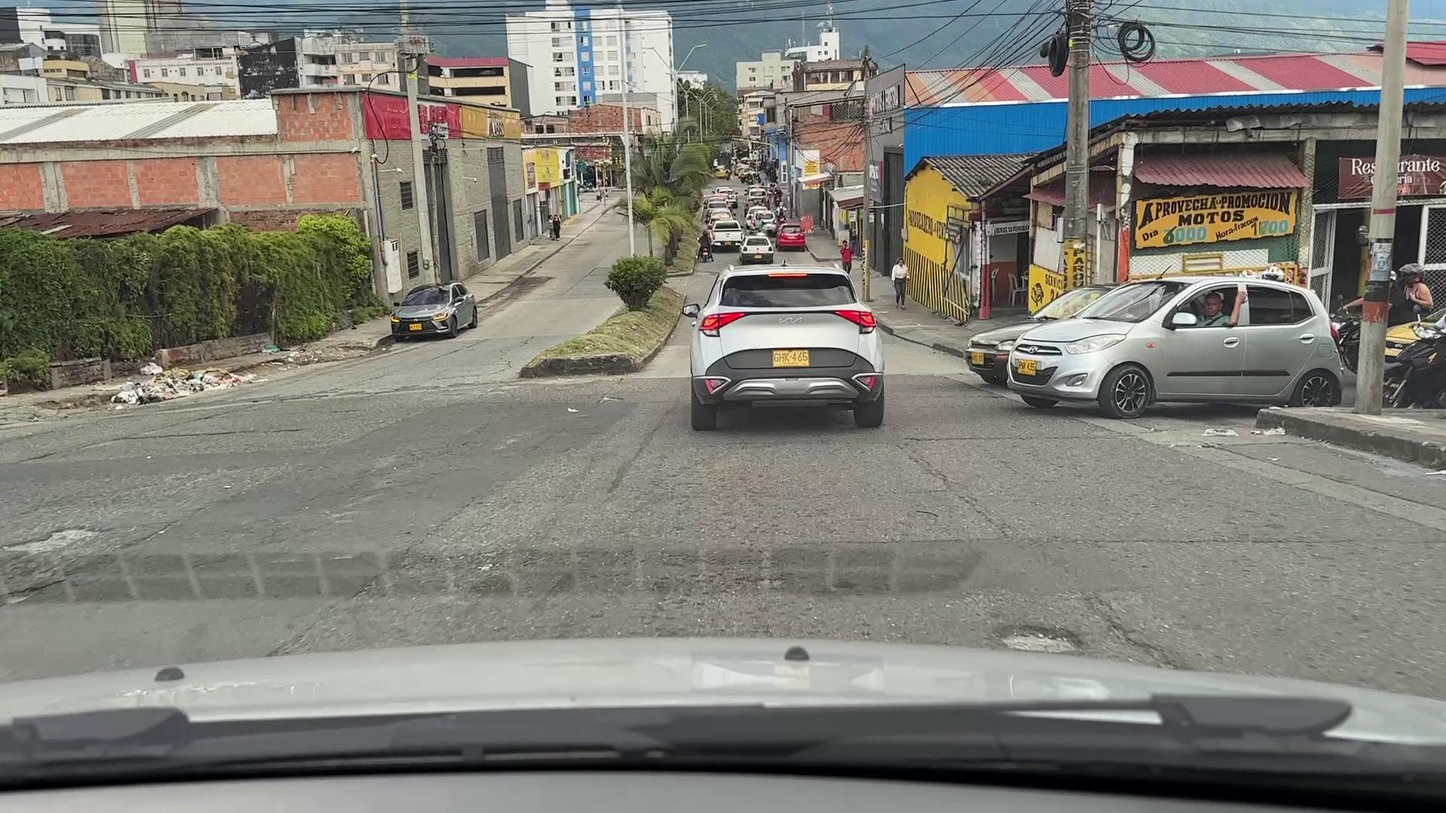bache: (6, 528, 98, 554), (1001, 629, 1078, 653)
grieta: (1086, 594, 1178, 671)
